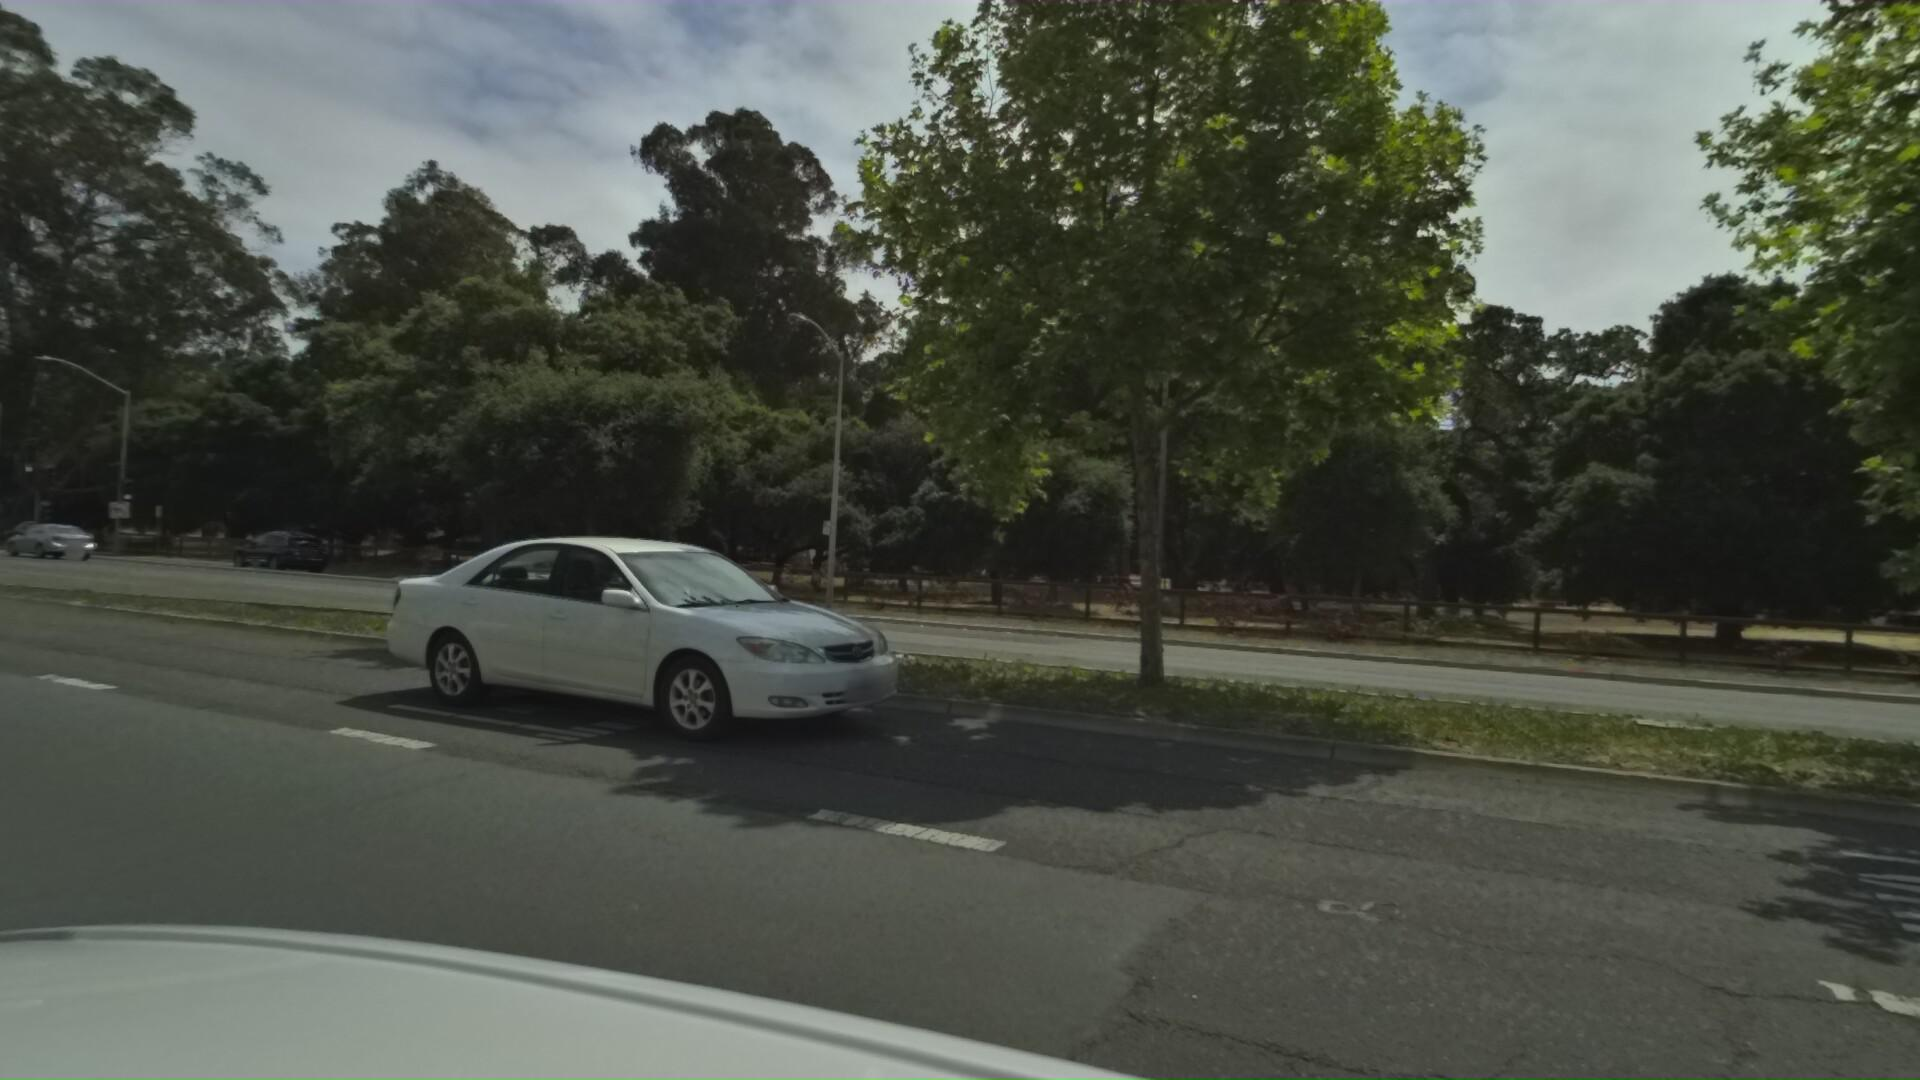car: (364, 442, 959, 781), (214, 529, 320, 576)
